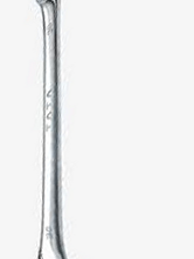wrench: (19, 1, 82, 259)
